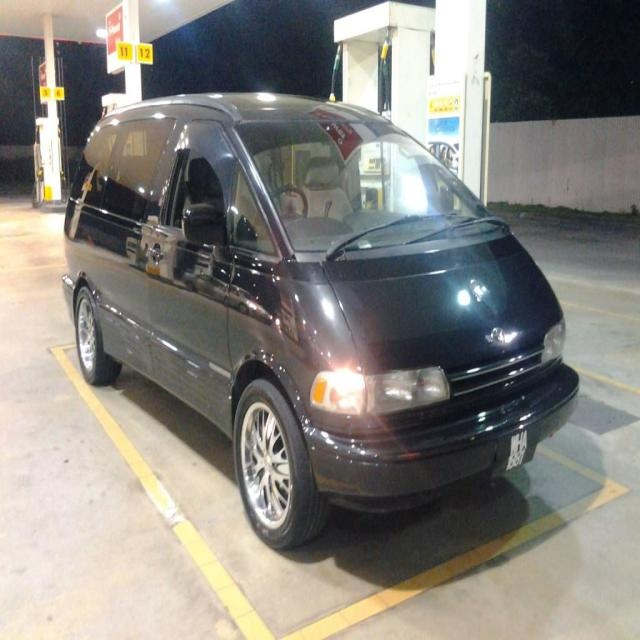Van: (60, 92, 578, 552)
